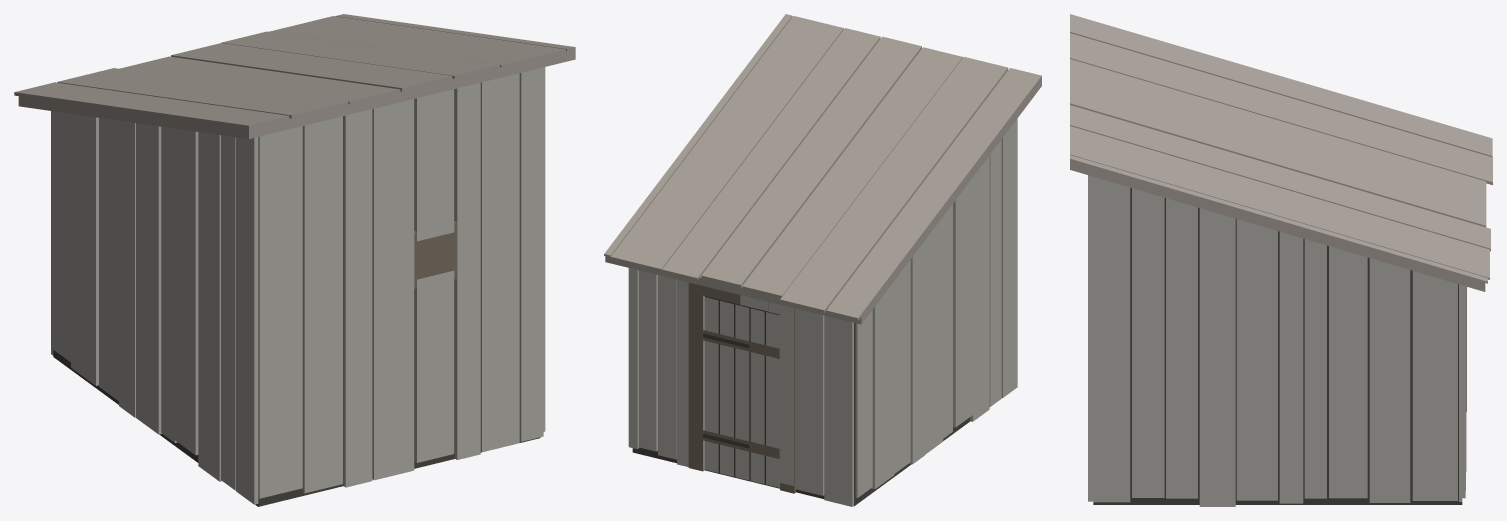
File: recon_1835_blk_washington_clinton_a4_20__inferred_1835.glb
3 views of the same model, side by side, from view 1: azimuth 30°, elevation 25°; view 2: azimuth 150°, elevation 25°; view 3: azimuth 270°, elevation 25° (orthographic). The views are drawn at different scales.
Visible parts, largest first — view 1: recon_1835_blk_washington_clinton_a4_20__inferred_1835; view 2: recon_1835_blk_washington_clinton_a4_20__inferred_1835; view 3: recon_1835_blk_washington_clinton_a4_20__inferred_1835.
Boxes of the visible parts, x1=… form: recon_1835_blk_washington_clinton_a4_20__inferred_1835: x1=14, y1=14, x2=575, y2=506; recon_1835_blk_washington_clinton_a4_20__inferred_1835: x1=604, y1=14, x2=1041, y2=506; recon_1835_blk_washington_clinton_a4_20__inferred_1835: x1=1070, y1=14, x2=1492, y2=506.
Bounding box in the file's own units: 2.86 × 3.32 × 3.56.
